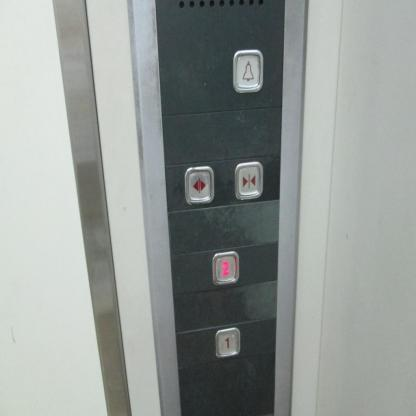1: (214, 325, 241, 359)
2: (211, 249, 239, 286)
alarm: (232, 48, 263, 93)
close: (234, 160, 264, 202)
open: (184, 165, 215, 207)
